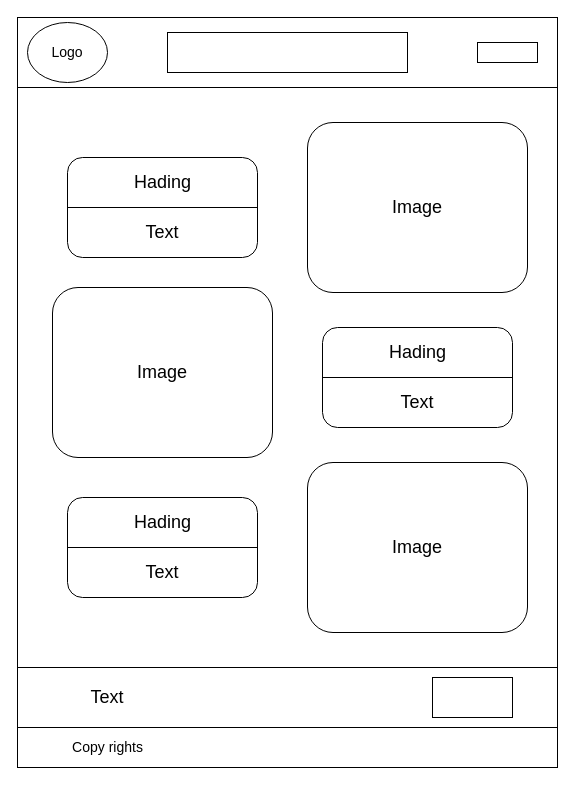
Some shapes in this 575 by 785 pixel diagram are drawn without their labels. Here are the shapes that lost their labels. From the top down, the centre of each, then its label:
(287,52): Nav Links
(507,52): Sign in
(472,697): Links
